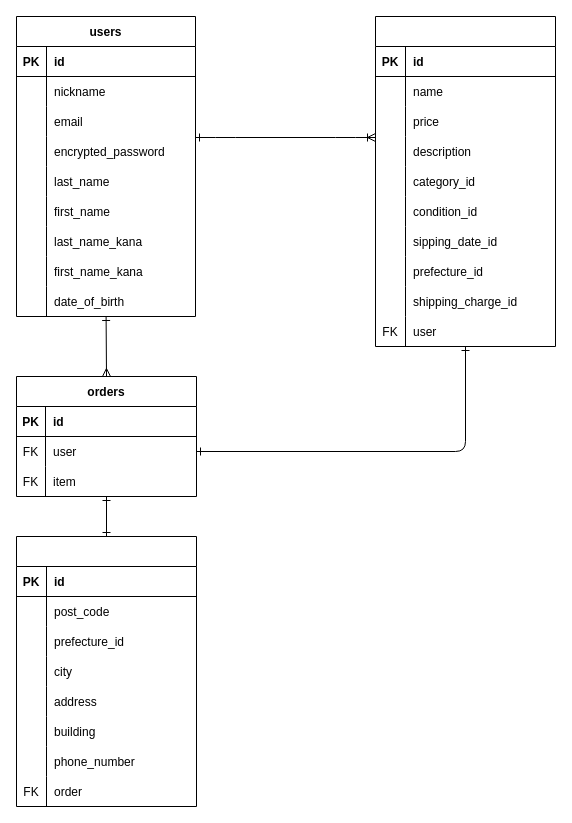
The diagram is 572 pixels wide and 823 high, and some of its shapes have lost their labels. Each missing label, with the box of its shape:
items: (374, 16, 556, 346)
shipping_addresses: (16, 536, 196, 806)
